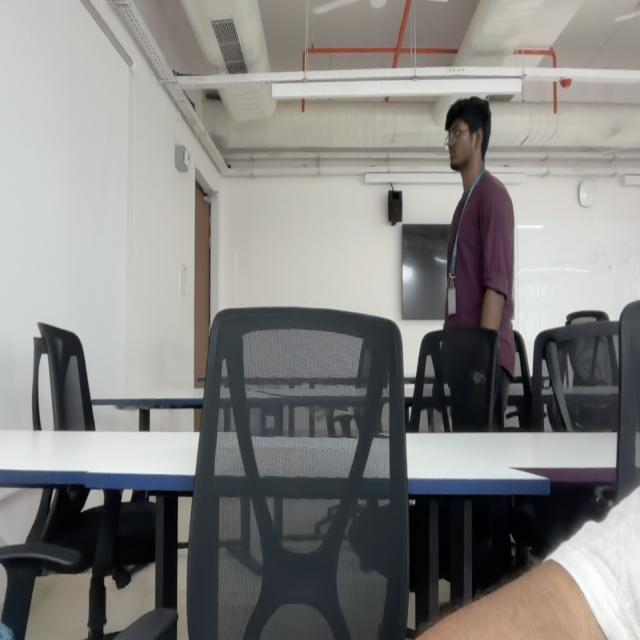ravindra: (446, 95, 491, 175)
